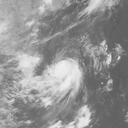cyclone: (48, 59, 83, 95)
